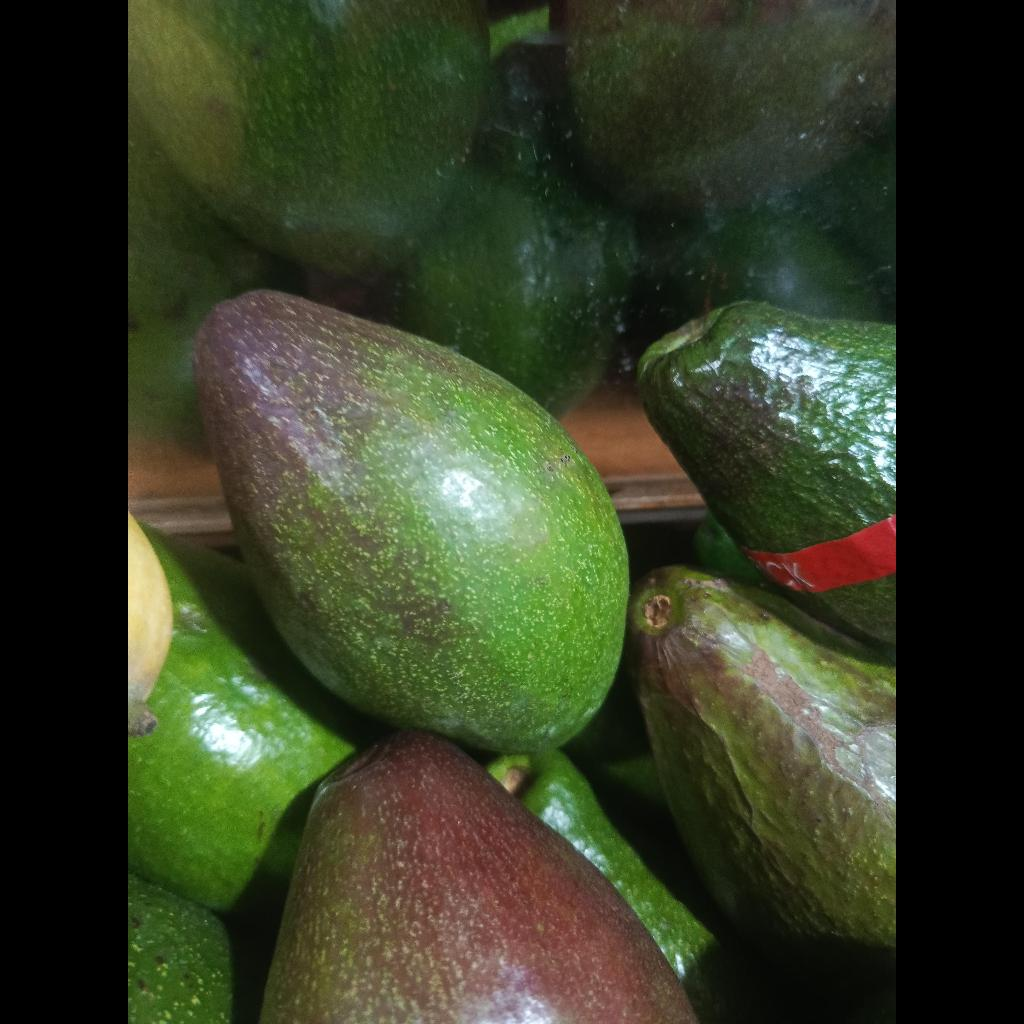healthy: (195, 291, 628, 752), (260, 731, 697, 1024), (629, 566, 896, 977), (128, 527, 372, 912), (637, 302, 896, 643)
